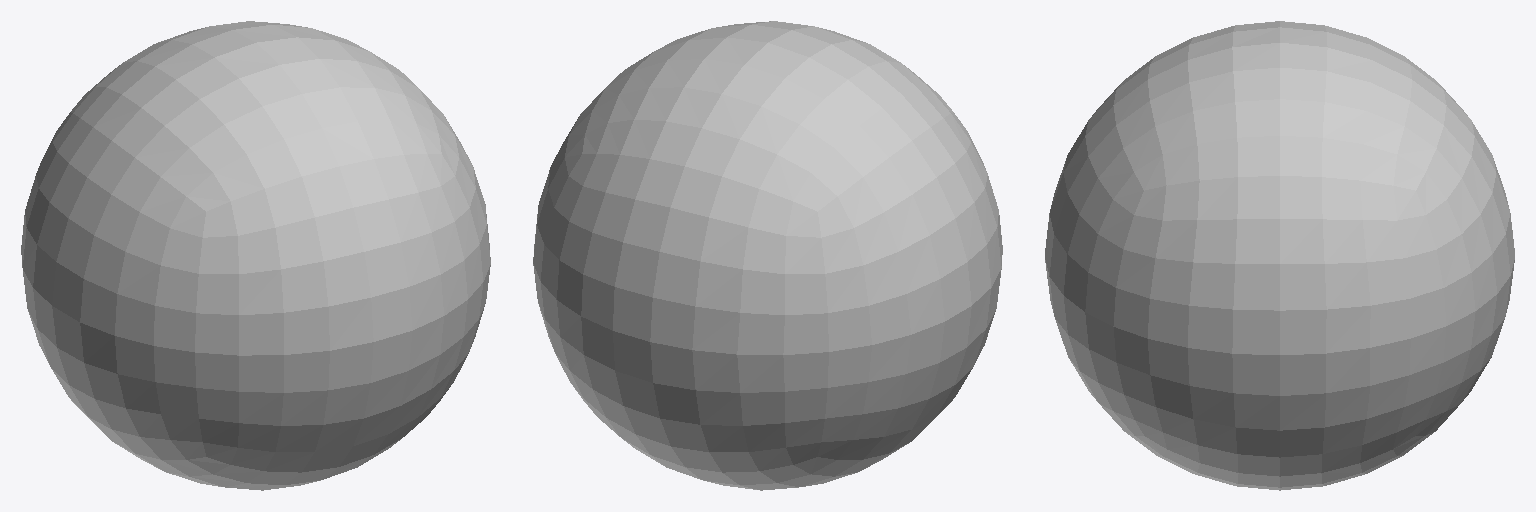
File: sky.obj
3 renders of one model, left to right at view 1: azimuth 30°, elevation 25°; view 2: azimuth 150°, elevation 25°; view 3: azimuth 270°, elevation 25°, orthographic.
Parts seen in each view (by area): view 1: Sphere; view 2: Sphere; view 3: Sphere.
Part boxes in pixels (x1,y1,x2,y2): Sphere: (21,21,490,490); Sphere: (533,21,1002,490); Sphere: (1045,21,1514,490).
Size of the model in its own units: 12 by 12 by 12.